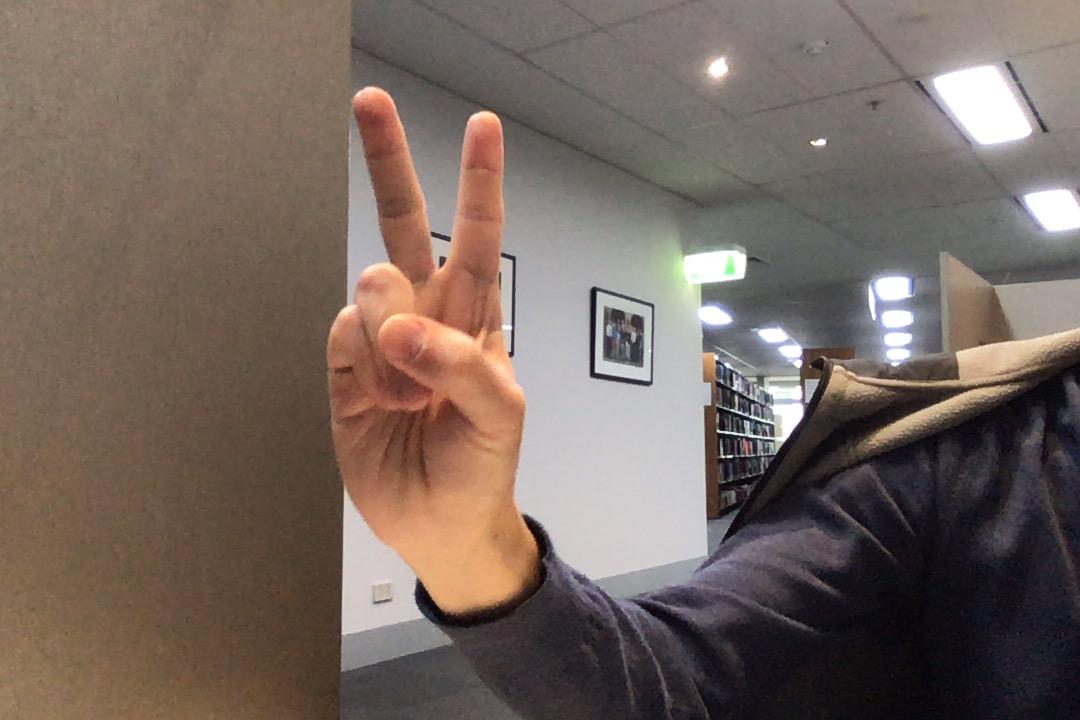peacesign: (310, 78, 547, 561)
